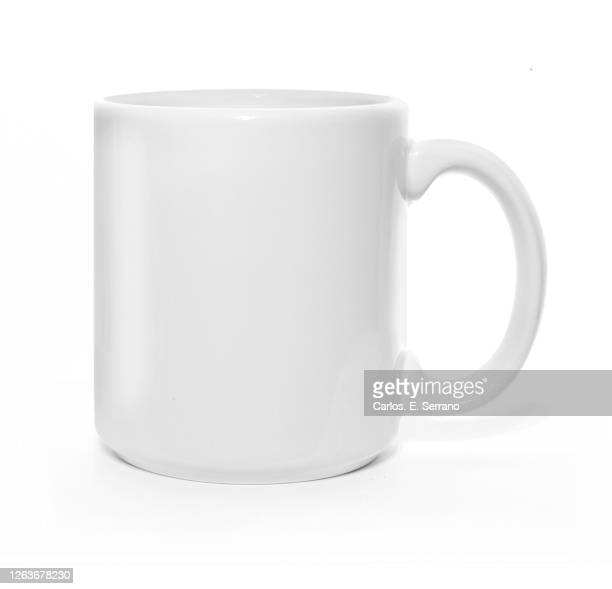cup: (84, 77, 550, 485)
